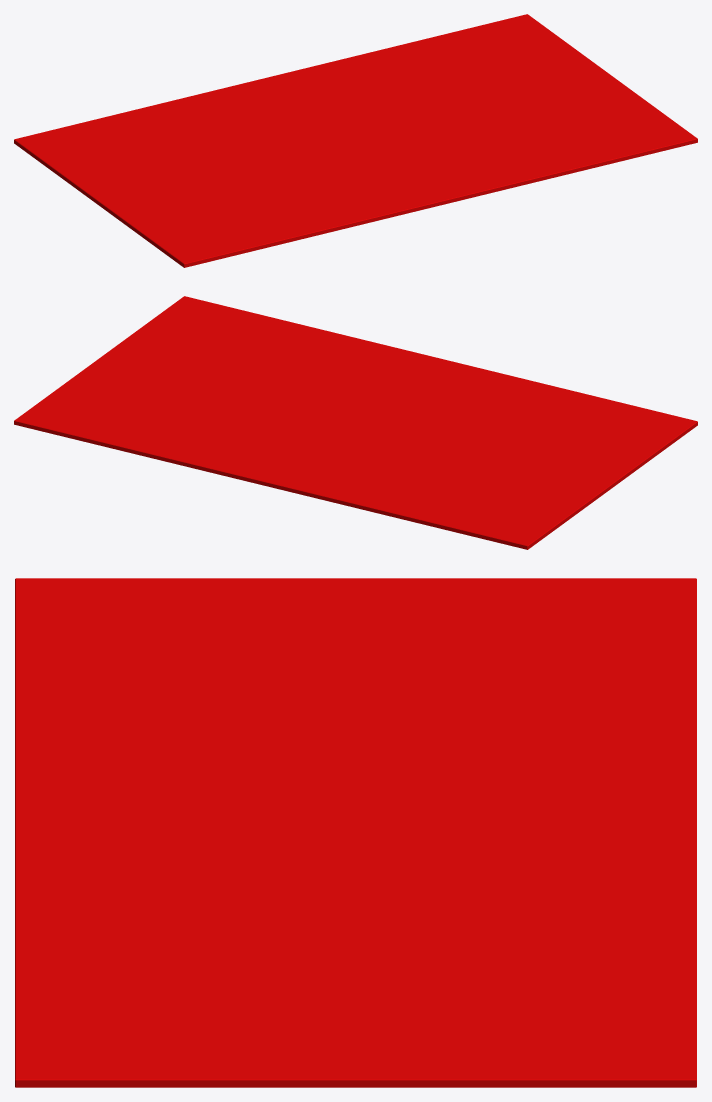
File: Floor_6.fbx
The picture shows the model from 3 angles, top to bottom: view 1: azimuth 30°, elevation 25°; view 2: azimuth 150°, elevation 25°; view 3: azimuth 270°, elevation 25°; orthographic projection. The views are drawn at different scales.
Visible parts, largest first — view 1: L18:polySurface1; view 2: L18:polySurface1; view 3: L18:polySurface1.
Boxes of the visible parts, x1,y1,x2,y2 form: L18:polySurface1: (14,14,697,267); L18:polySurface1: (14,296,697,549); L18:polySurface1: (15,578,696,1087).
Bounding box in the file's own units: 911 × 6.76 × 523.
